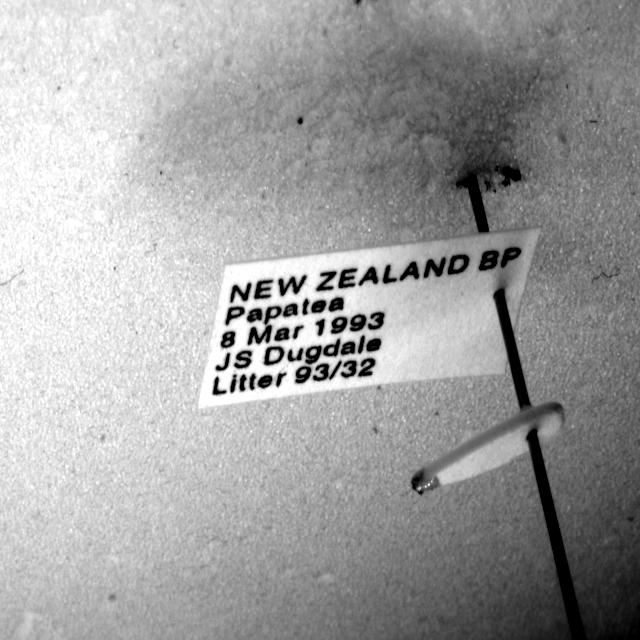typed_label: (199, 229, 540, 407)
